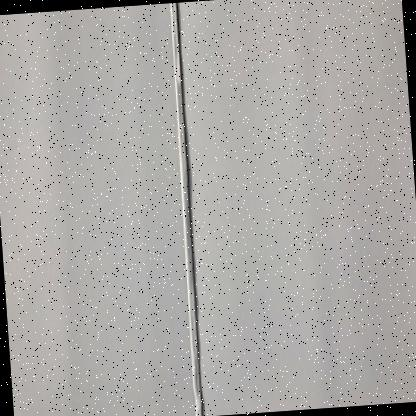Crack: (161, 0, 230, 415)
